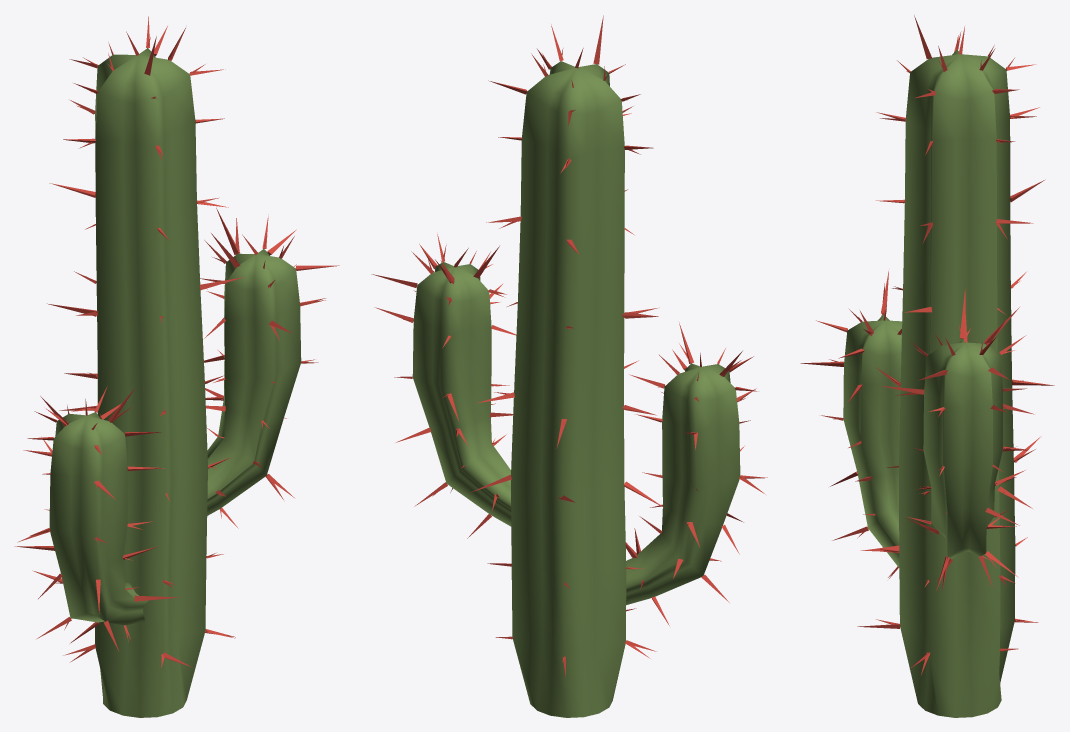
The model's file is cactusMed2.fbx.
3 views of the same model, side by side, from view 1: azimuth 30°, elevation 25°; view 2: azimuth 150°, elevation 25°; view 3: azimuth 270°, elevation 25° (orthographic).
Parts seen in each view (by area): view 1: Sphere.004; view 2: Sphere.004; view 3: Sphere.004.
Boxes of the visible parts, x1,y1,x2,y2 form: Sphere.004: (14, 16, 339, 717); Sphere.004: (371, 15, 767, 717); Sphere.004: (800, 15, 1054, 717).
Size of the model in its own units: 253 by 483 by 166.
